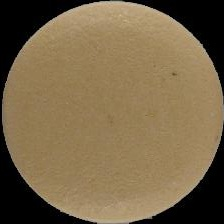68788-9275: (0, 0, 224, 224)
